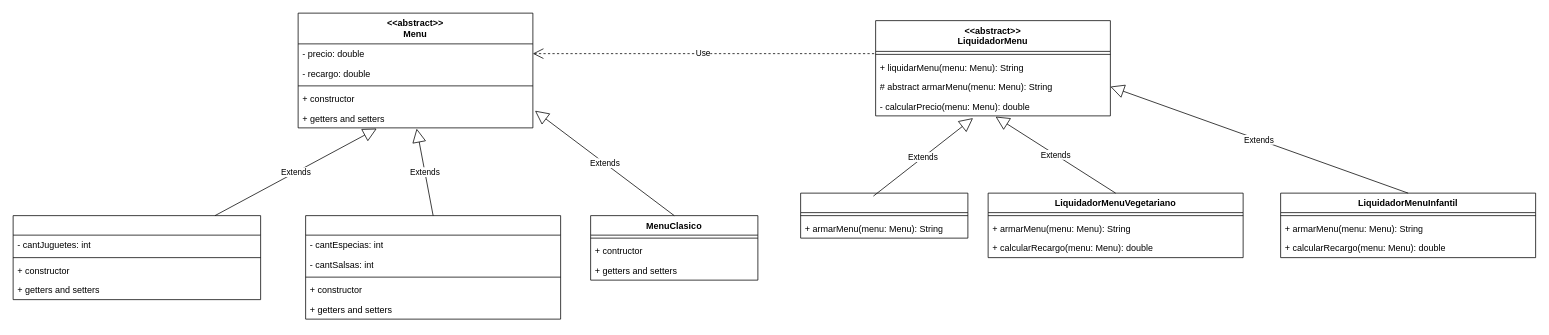
Image size: 1549x335. Some labels were removed from this diagram. The box of each missing label's shape, as (x1, y1, x2, y2) in pixels:
LiquidadorMenuClasico: (800, 192, 968, 238)
MenuInfantil: (12, 215, 261, 300)
MenuVegetariano: (305, 215, 561, 319)
